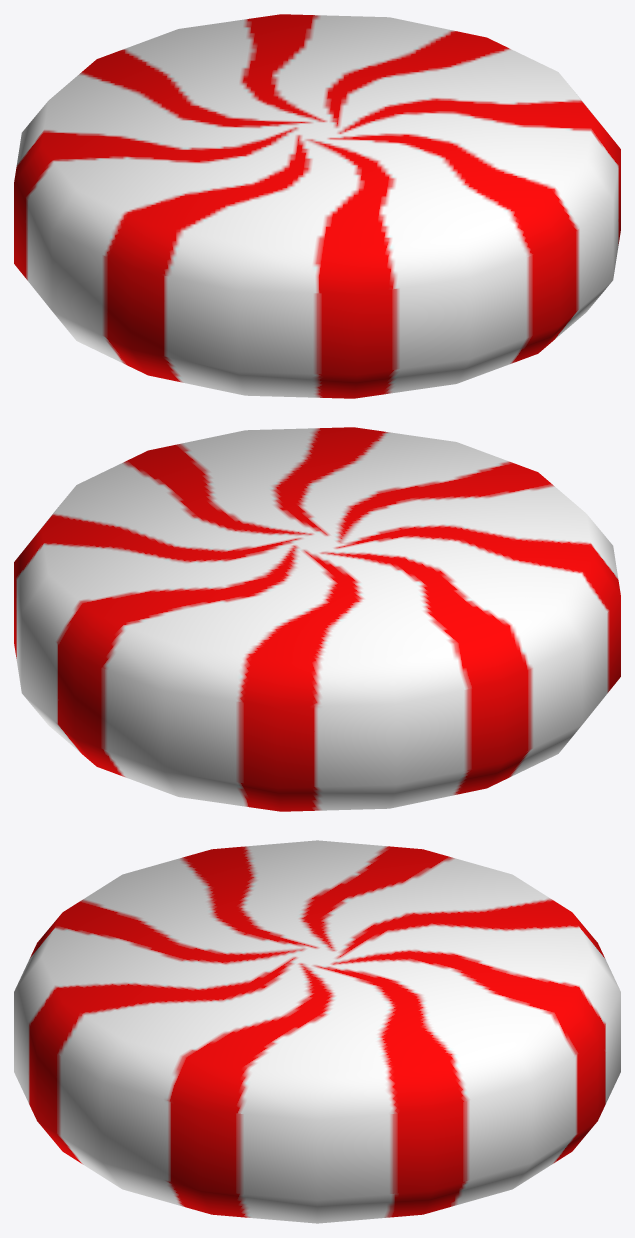
File: peppermint.fbx
3 renders of one model, top to bottom at view 1: azimuth 30°, elevation 25°; view 2: azimuth 150°, elevation 25°; view 3: azimuth 270°, elevation 25°, orthographic.
Parts seen in each view (by area): view 1: Peppermint; view 2: Peppermint; view 3: Peppermint.
Boxes of the visible parts, x1,y1,x2,y2 form: Peppermint: (14, 14, 620, 398); Peppermint: (14, 427, 620, 811); Peppermint: (14, 840, 620, 1223).
Size of the model in its own units: 4.62 by 1.26 by 4.62.
